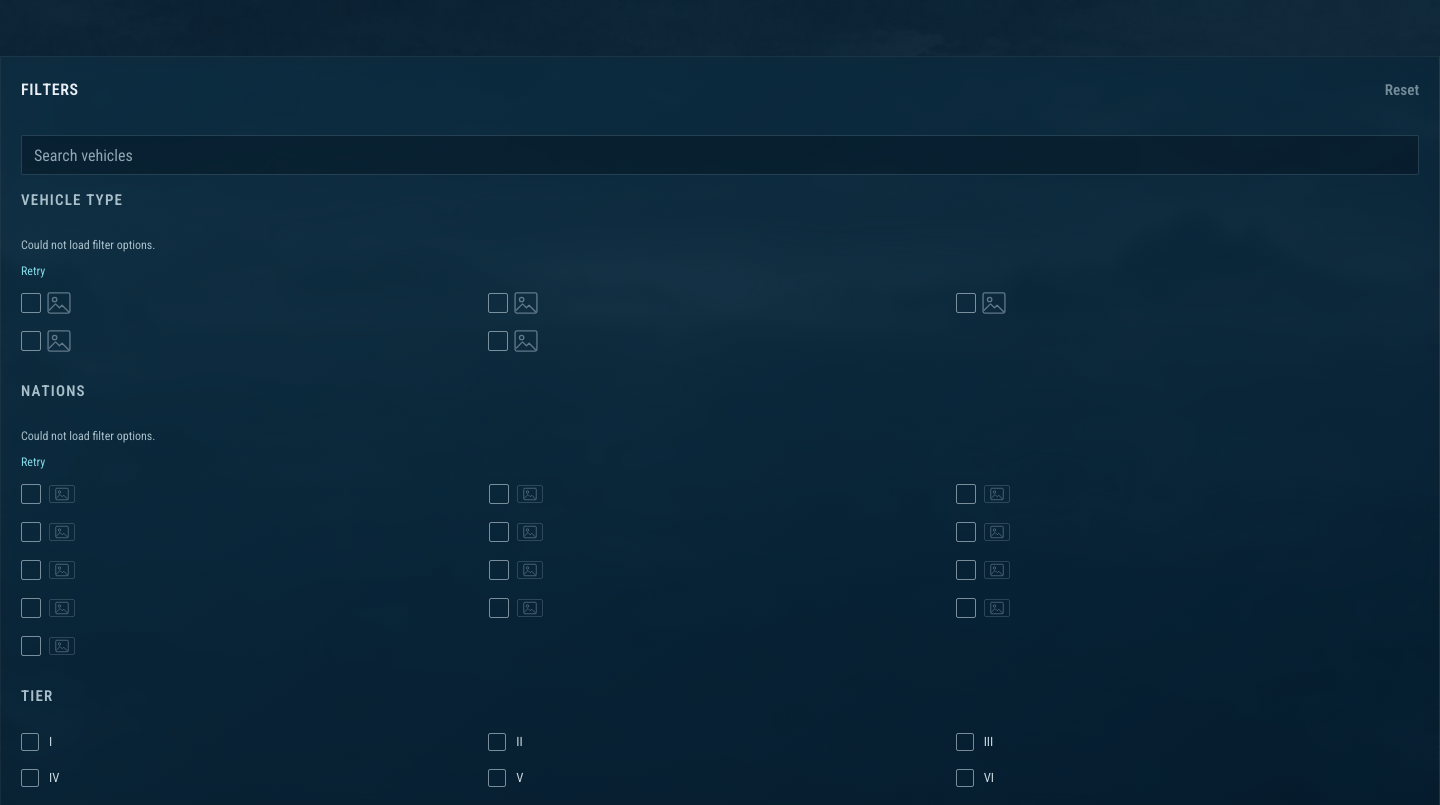
Filters › keeps both groups usable when media fails and retries the shared request once
Click the 8th checkbox named "United States" at (966, 494), box [956,484,976,504]
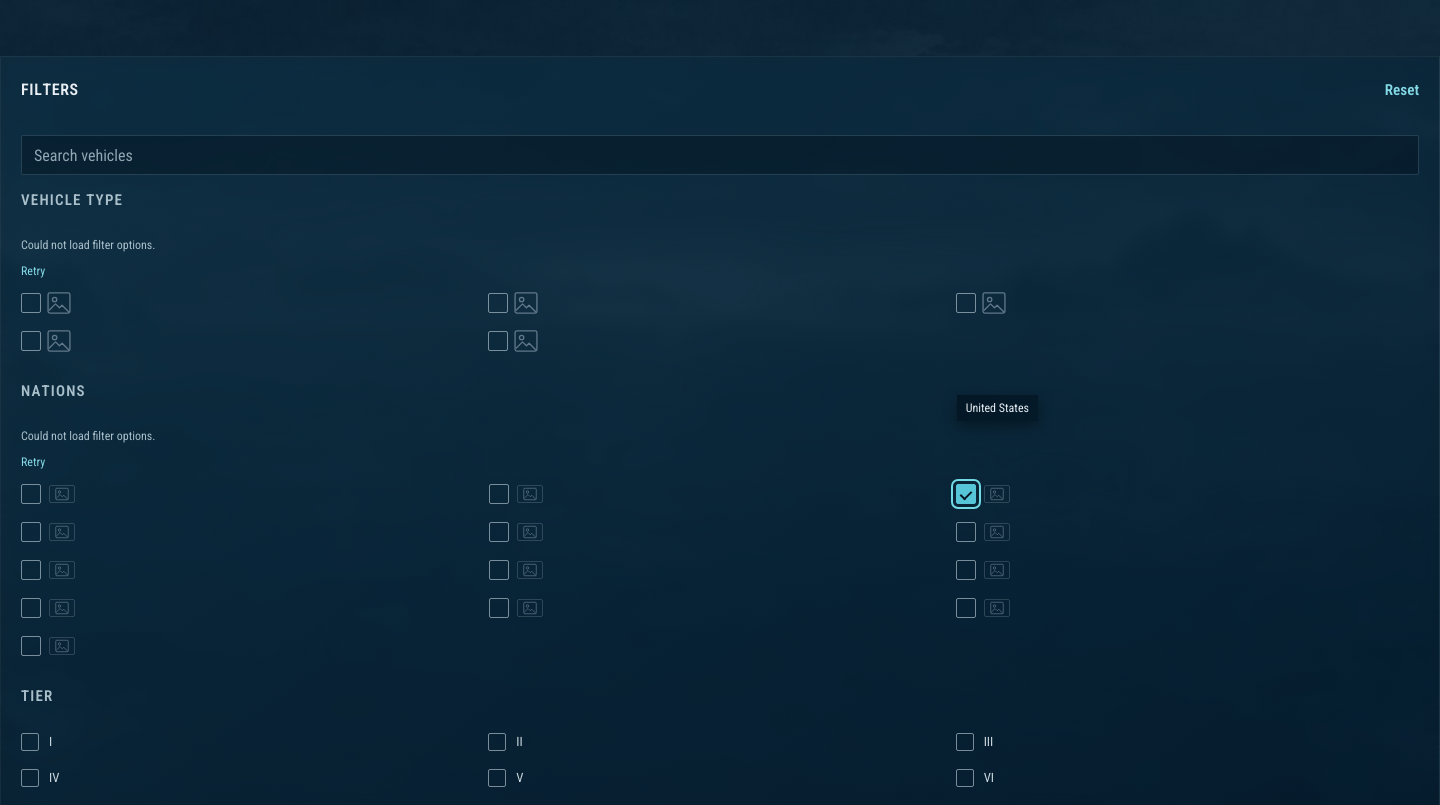
Click the 1st checkbox named "Cruiser" at (31, 303), box [21,293,41,313]
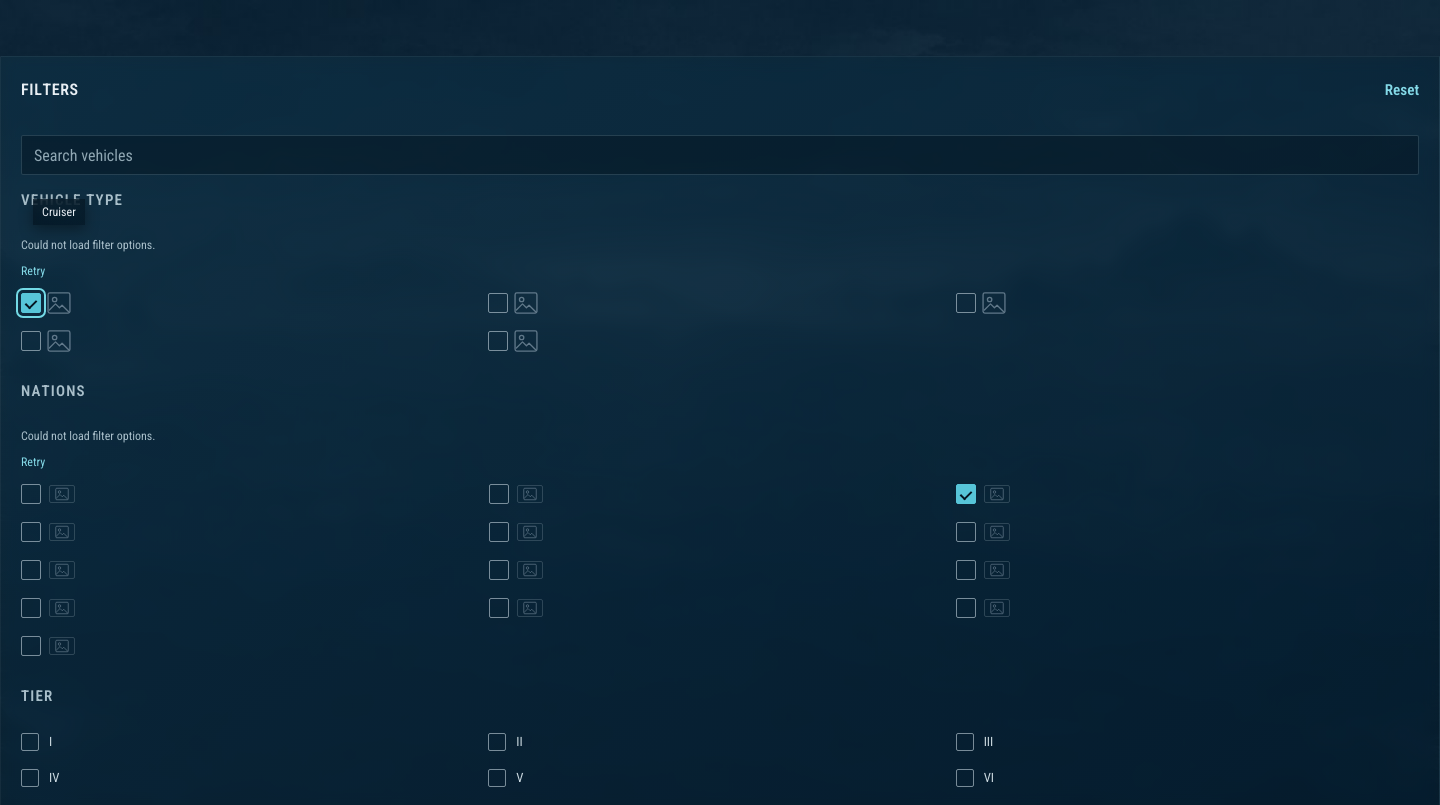
Expected: the 7th checkbox named "United States" is checked, [956,484,976,504]
Expected: the checkbox labelled "Cruiser" is checked, [21,293,41,313]
Click the button "Retry" below "Nations" at (33, 463), box [21,450,45,475]
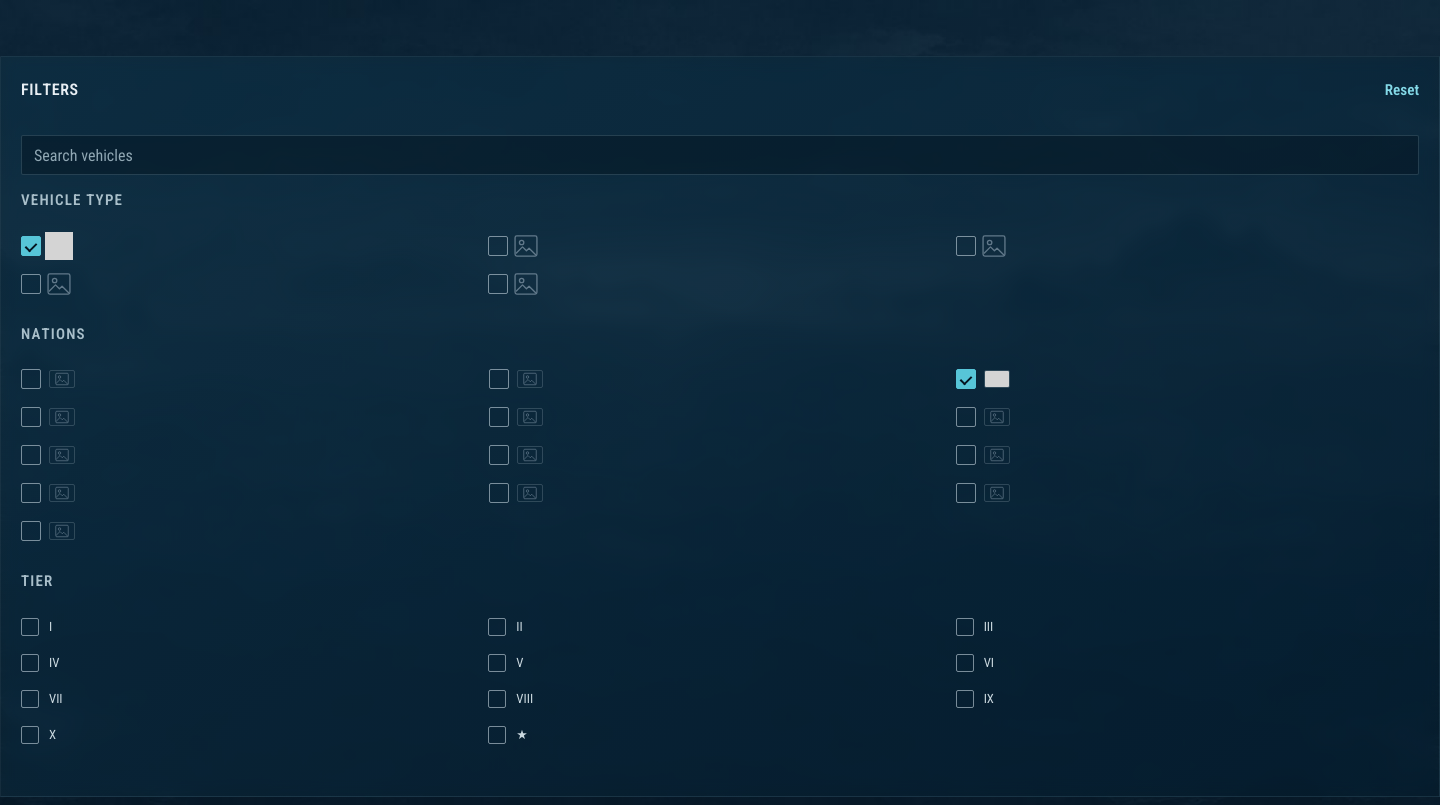
Expected: the 8th checkbox named "United States" is checked, [956,369,976,389]
Expected: the 1st checkbox named "Cruiser" is checked, [21,236,41,256]
Expected: the message "Could not load filter options." is gone
